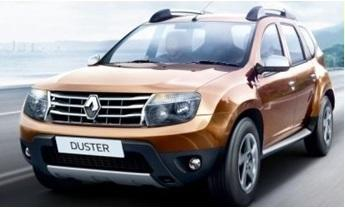License-Plate: (56, 135, 120, 159)
